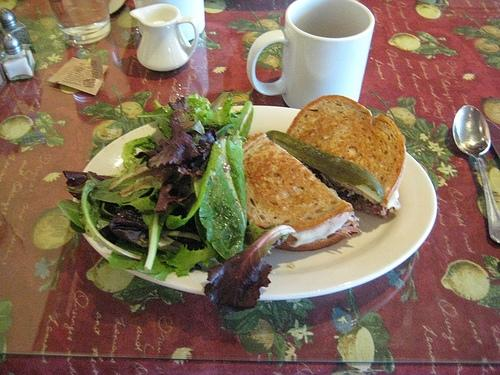lemon: (440, 260, 490, 300), (33, 206, 76, 250), (86, 256, 134, 294), (335, 326, 374, 370), (238, 318, 274, 354), (0, 115, 34, 140), (92, 120, 122, 144), (477, 166, 499, 194), (388, 32, 421, 50), (219, 90, 250, 107), (114, 102, 144, 119), (482, 97, 500, 124), (117, 5, 138, 28), (390, 107, 415, 126), (416, 3, 442, 18), (476, 38, 500, 54), (479, 25, 500, 40), (204, 0, 226, 14), (36, 18, 56, 30), (242, 31, 258, 44), (264, 55, 280, 68), (260, 20, 280, 30), (1, 0, 18, 10)
